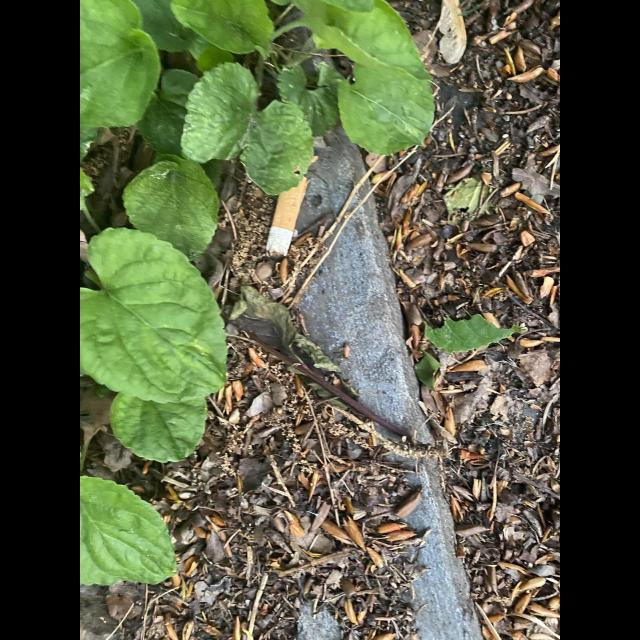cigarette: (265, 173, 307, 260)
